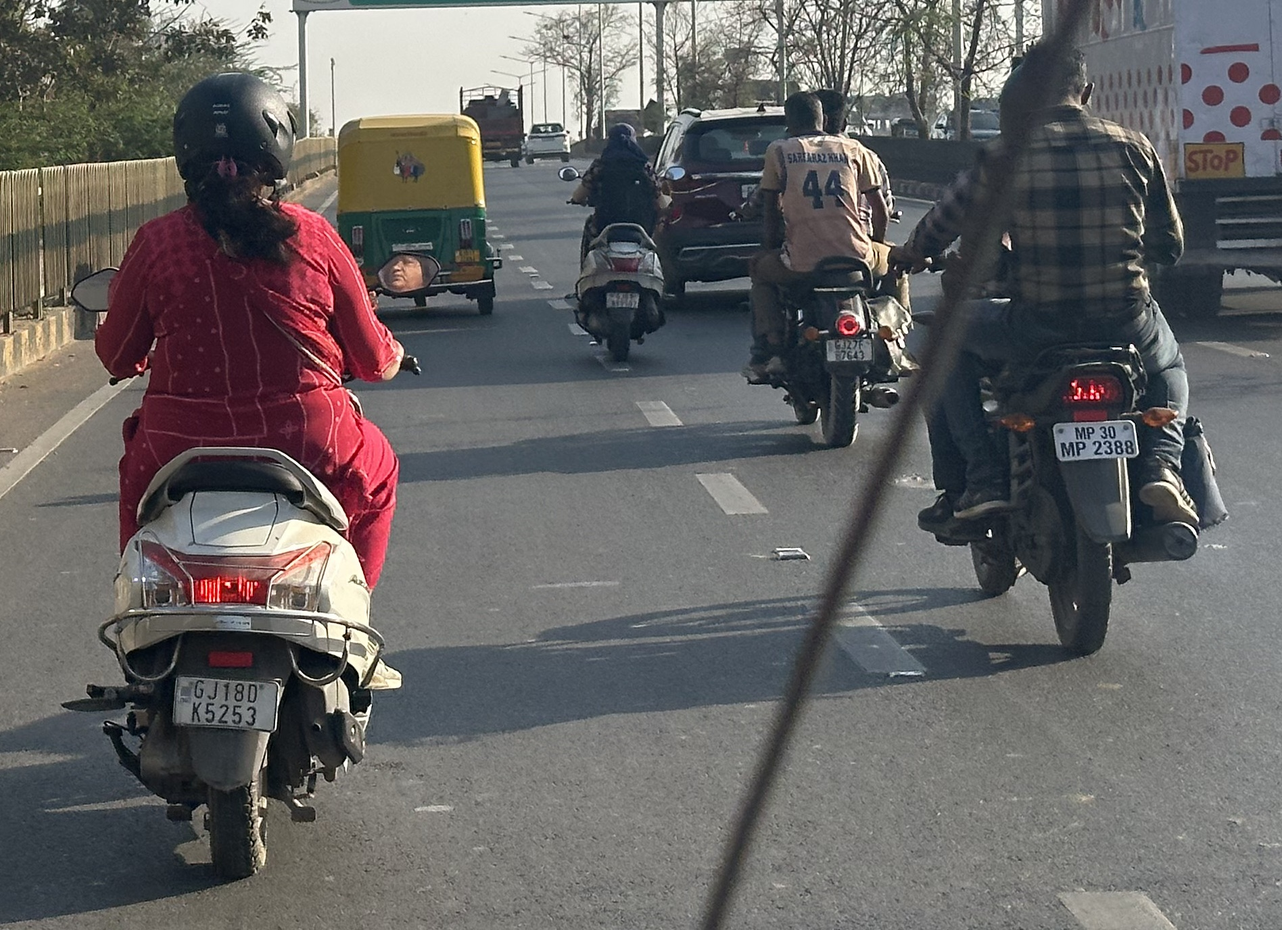BikeWithRider: (51, 63, 446, 889), (881, 28, 1236, 668), (734, 78, 926, 462), (553, 114, 687, 374)
Helmet: (161, 64, 306, 212)
NoHelmet: (1004, 34, 1107, 130), (982, 51, 1068, 149), (775, 84, 828, 143), (807, 82, 856, 141), (599, 117, 647, 157)
